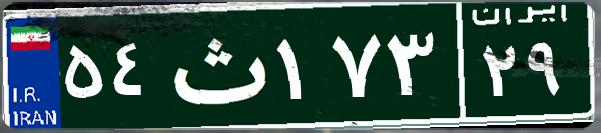1: (273, 28, 330, 110)
2: (475, 38, 525, 113)
3: (385, 28, 445, 110)
4: (110, 28, 158, 105)
5: (57, 26, 110, 107)
7: (330, 28, 385, 110)
9: (525, 38, 570, 115)
ث: (158, 15, 273, 115)
